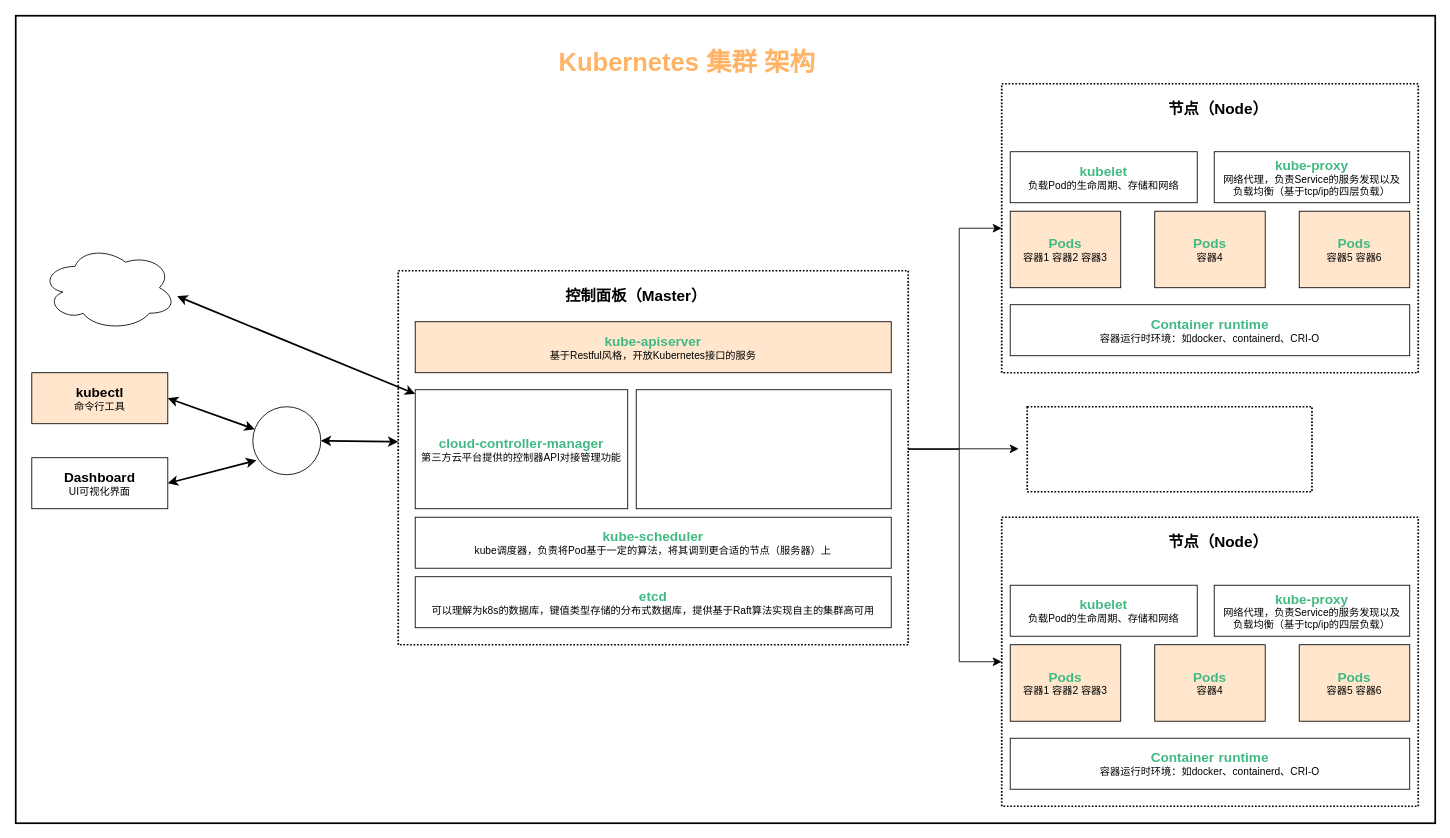
Some shapes in this 1450 by 838 pixel diagram are drawn without their labels. The shapes that lost their labels are listed below. From the top down, each one's box as (x1, y1, x2, y2) in pixels, then its label:
(40, 244, 176, 330): 第三方云平台API
(252, 406, 321, 475): API
(635, 389, 891, 509): kube-controller-manager 管理各个类型的控制器，针对k8s中的各种资源进行管理
(1026, 405, 1312, 492): 节点（Node） ...
